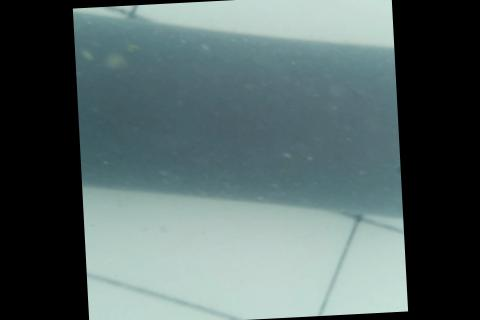kebocoran: (390, 161, 401, 182)
